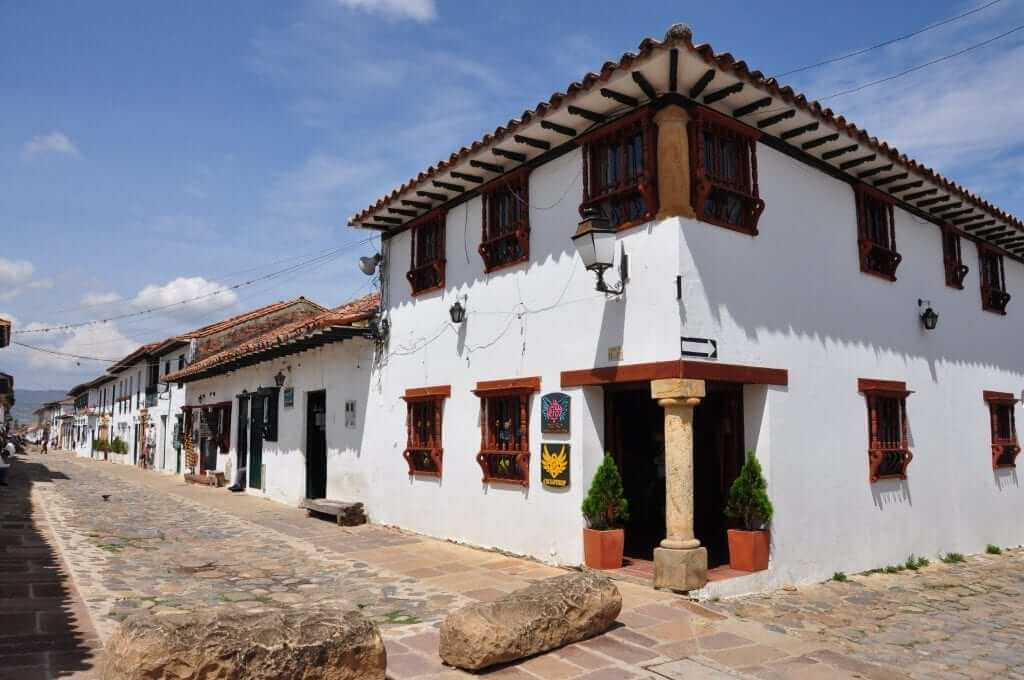House: (349, 24, 1023, 577), (176, 293, 374, 521), (51, 338, 190, 483)
